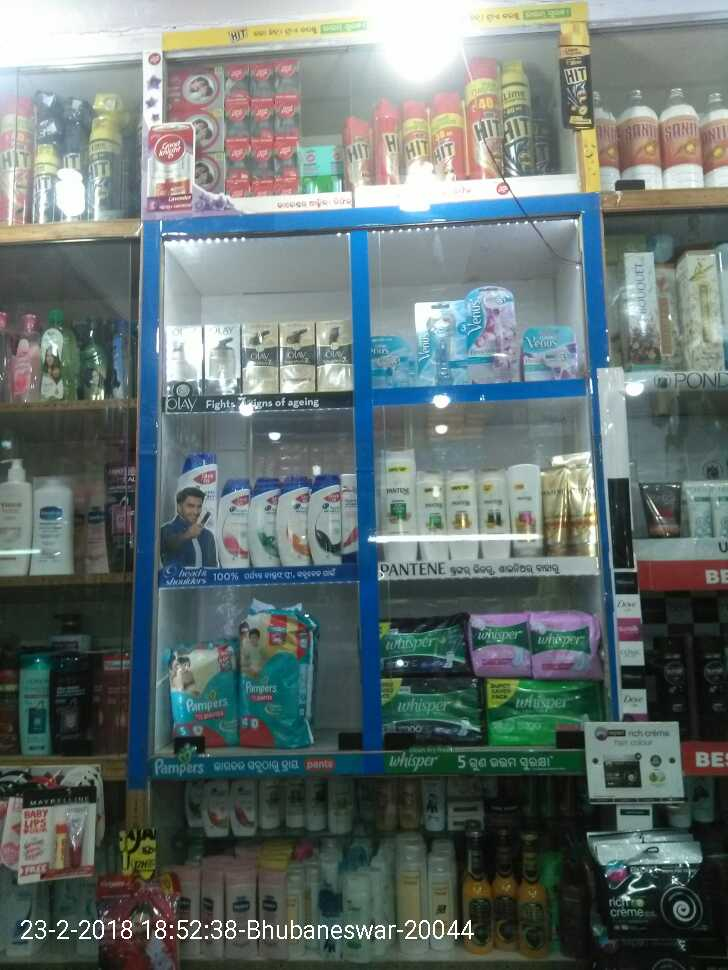venus: (468, 288, 524, 381), (417, 298, 465, 387), (524, 325, 576, 381), (372, 336, 414, 386)
